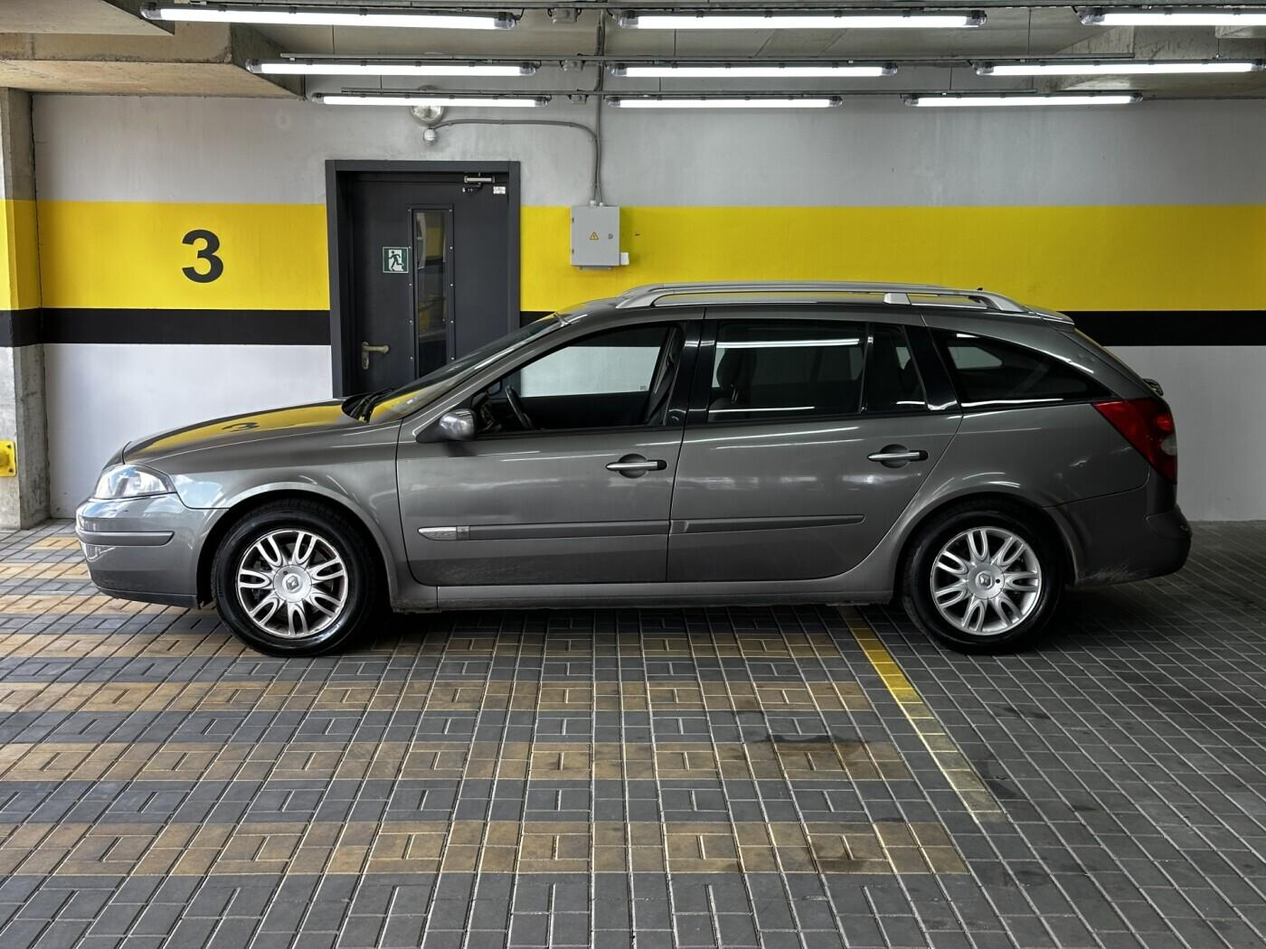Laguna_2005-2007: (75, 271, 1191, 664)
